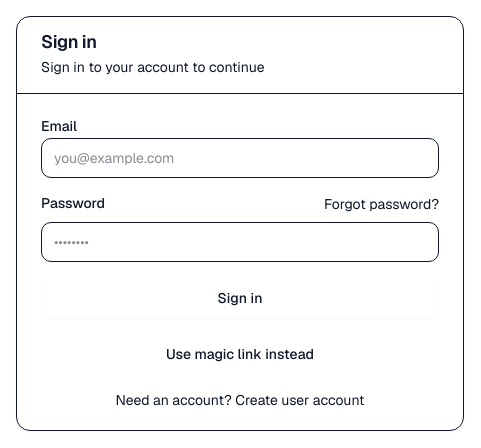
Test: LoginPage › should handle magic link flow successfully
This screenshot has width=481, height=448.
Switch to magic link mode
Click the button "Use magic link instead".
click(240, 354)  # box [41,334,439,374]
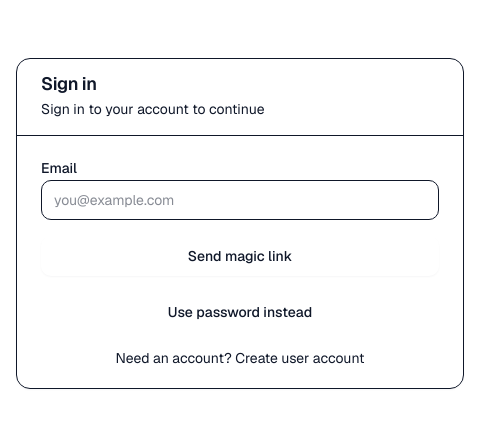
Type "user@example.com" into the field labelled "Email".
click(240, 200); type("user@example.com")  # box [41,180,439,220]
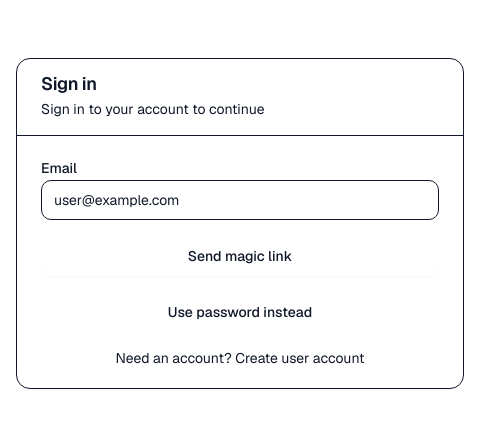
Submit the form from the button "Send magic link", box [41,236,439,276]
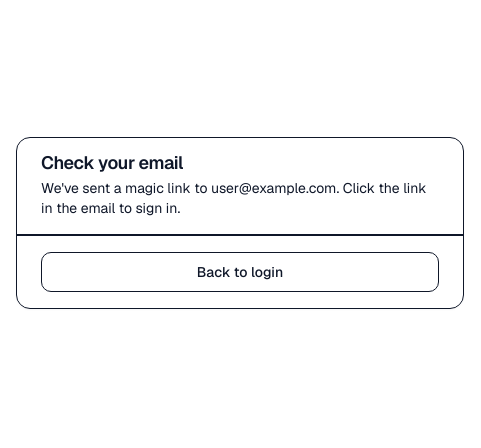
Now the text "We've sent a magic link to user@example.com. Click the link in the email to sign in." is shown, box [41,178,439,218]
